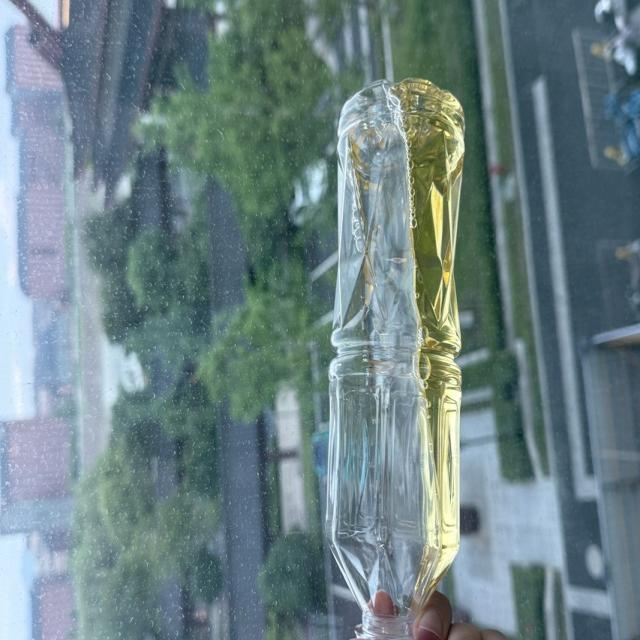medium: (326, 78, 464, 639)
